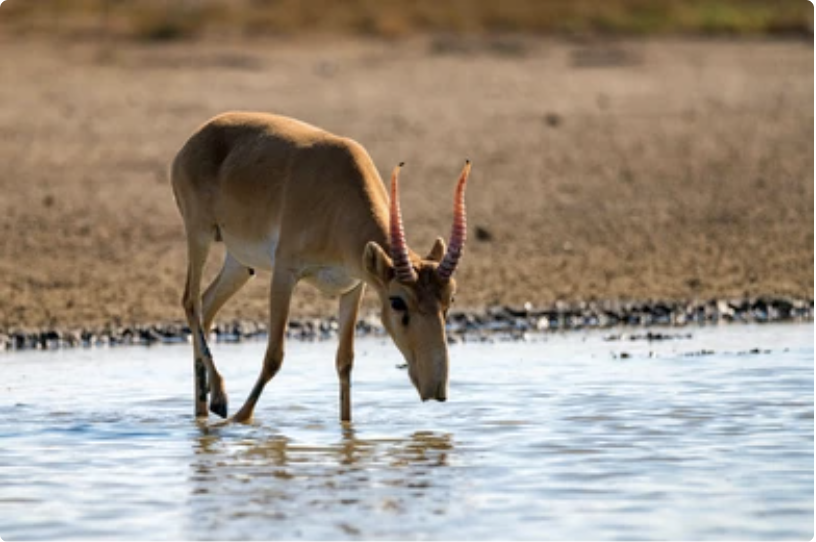saiga: (158, 97, 481, 441)
